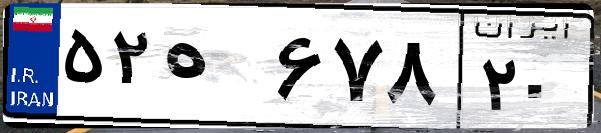0: (525, 38, 570, 115)
2: (475, 38, 525, 113), (110, 28, 158, 98)
5: (57, 26, 110, 100)
6: (270, 28, 330, 110)
7: (330, 28, 385, 110)
8: (385, 28, 445, 110)
ه: (158, 20, 270, 120)
